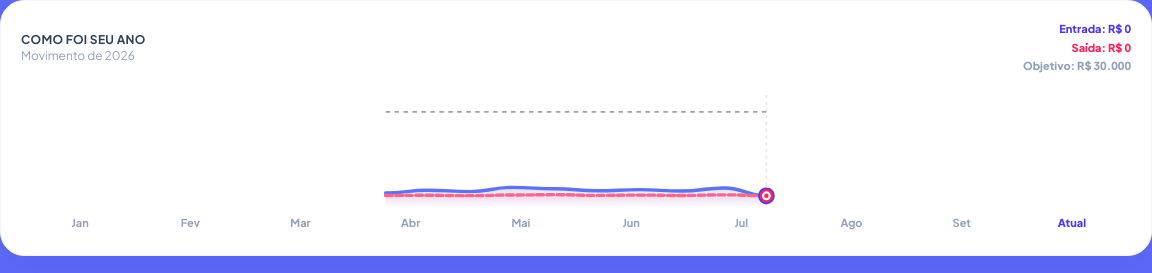
Test: YearlyChart › shows the selected month's amounts when a month label is pressed
Click the button with aria-label "maio".
click(521, 223)  # box [466,214,576,231]
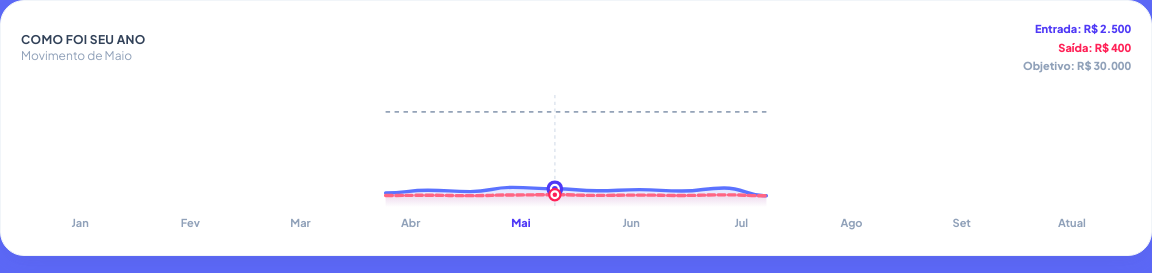
Now the text "Movimento de Maio" is shown, box [21,48,146,64]
Now the text "Entrada: R$ 2.500" is shown, box [1035,21,1131,38]
Now the text "Saída: R$ 400" is shown, box [1058,40,1131,56]
